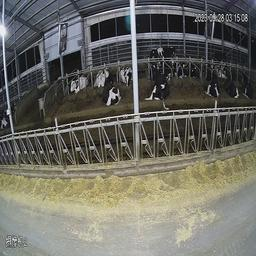cow: (144, 64, 171, 109), (146, 38, 178, 73), (102, 73, 126, 114), (203, 65, 222, 109), (225, 70, 243, 104), (121, 54, 134, 95), (68, 68, 86, 96), (92, 60, 107, 84), (243, 70, 253, 105), (188, 55, 201, 78), (179, 55, 189, 79)
